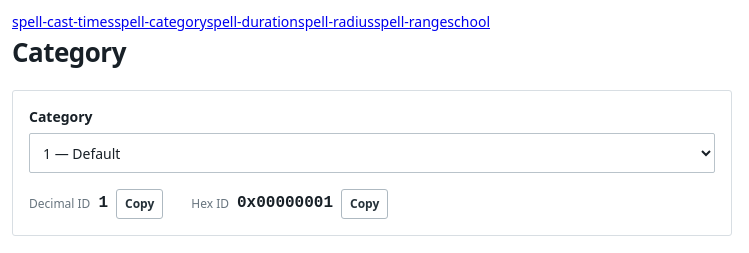
Test: DBC reference pages › spell-category has one dropdown and displays the selected ID without a table
Select "1 — Default" in the dropdown labelled "Category" at (372, 153), box [29, 133, 715, 173]
expect the text named "Decimal ID" reads "1": met, box [98, 194, 108, 212]
expect the text named "Hex ID" reads "0x00000001": met, box [237, 194, 333, 212]
Select "1161 — Reincarnation" in the dropdown labelled "Category" at (372, 153), box [29, 133, 715, 173]
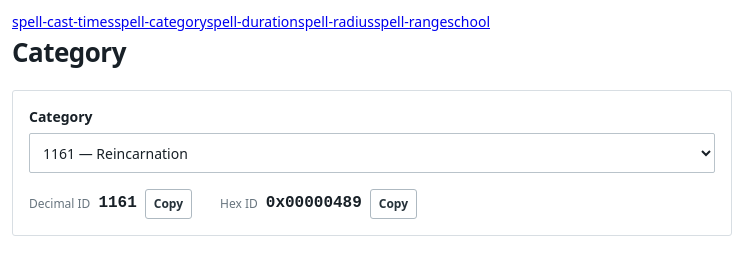
expect the text named "Decimal ID" reads "1161": met, box [98, 194, 137, 212]
